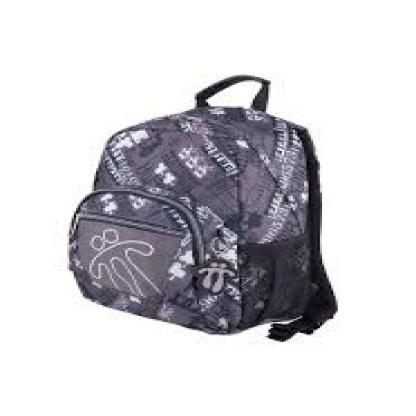morral: (69, 66, 356, 352)
